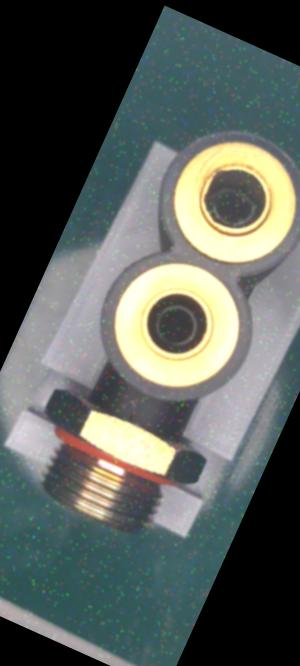craze: (121, 404, 141, 429)
off-centered: (198, 174, 270, 237)
